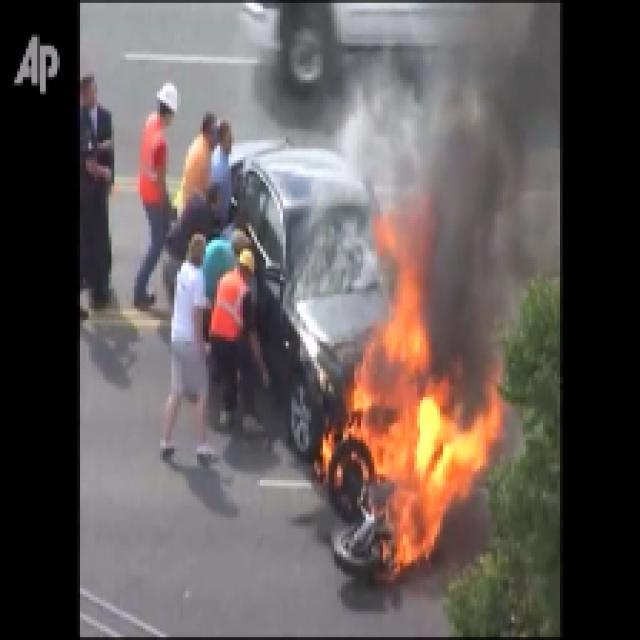Fire: (343, 365, 478, 580)
Smoke: (418, 80, 524, 345)
